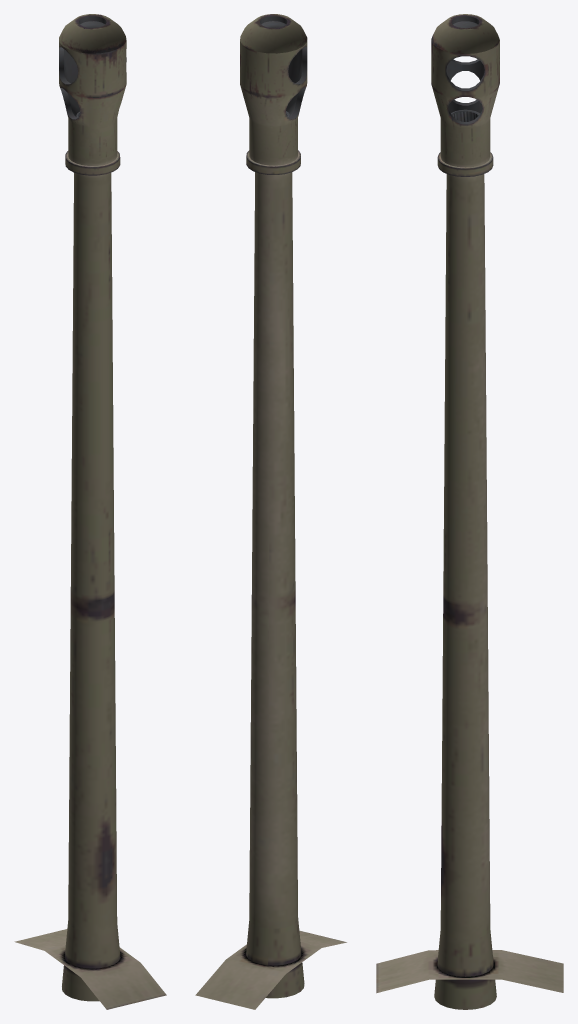
File: Gun_01.glb
3 renders of one model, left to right at view 1: azimuth 30°, elevation 25°; view 2: azimuth 150°, elevation 25°; view 3: azimuth 270°, elevation 25°, orthographic.
Visible parts, largest first — view 1: set_0_group_0; view 2: set_0_group_0; view 3: set_0_group_0.
Boxes of the visible parts, x1=… form: set_0_group_0: x1=14, y1=14, x2=166, y2=1009; set_0_group_0: x1=195, y1=14, x2=346, y2=1009; set_0_group_0: x1=376, y1=14, x2=563, y2=1009.
Bounding box in the file's own units: 0.1893 × 2.91 × 0.5062.
Materials: 1 (1 with a texture image).
